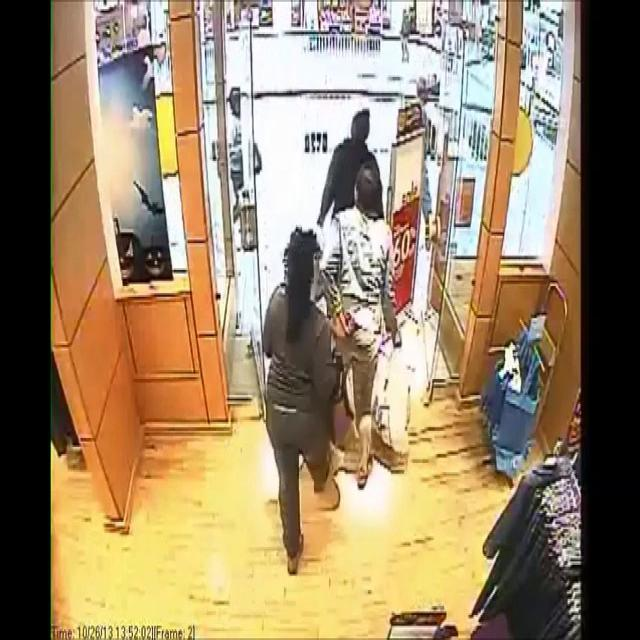normal: (214, 213, 353, 604), (327, 176, 423, 485), (314, 74, 391, 180)
